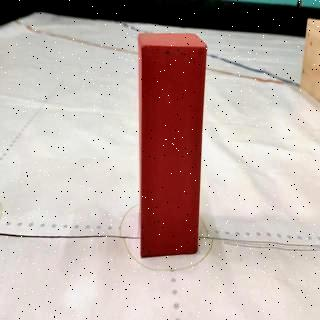redbox: (136, 32, 208, 259)
